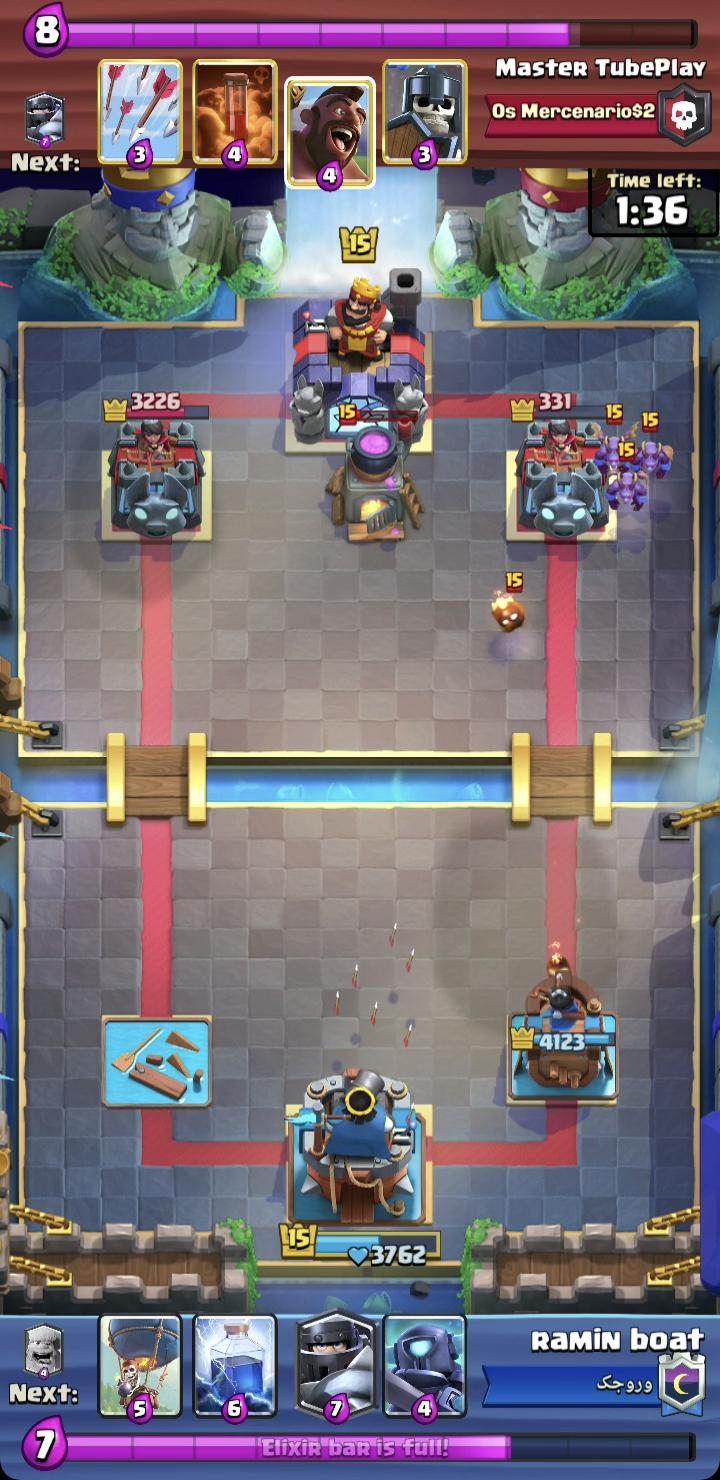enemy_fire_spirit: (490, 570, 525, 634)
enemy_furnace: (325, 402, 426, 544)
enemy_minion: (624, 410, 677, 480), (593, 404, 637, 474), (607, 439, 649, 512)
